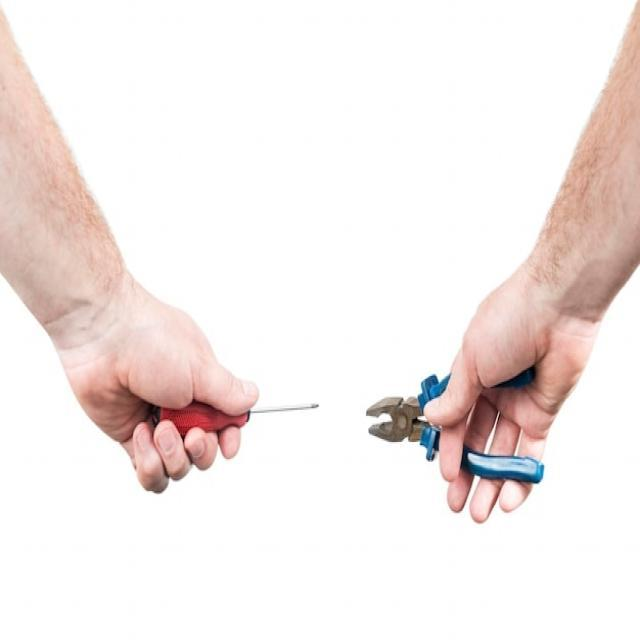pliers: (362, 362, 548, 488)
screwdriver: (146, 390, 326, 440)
